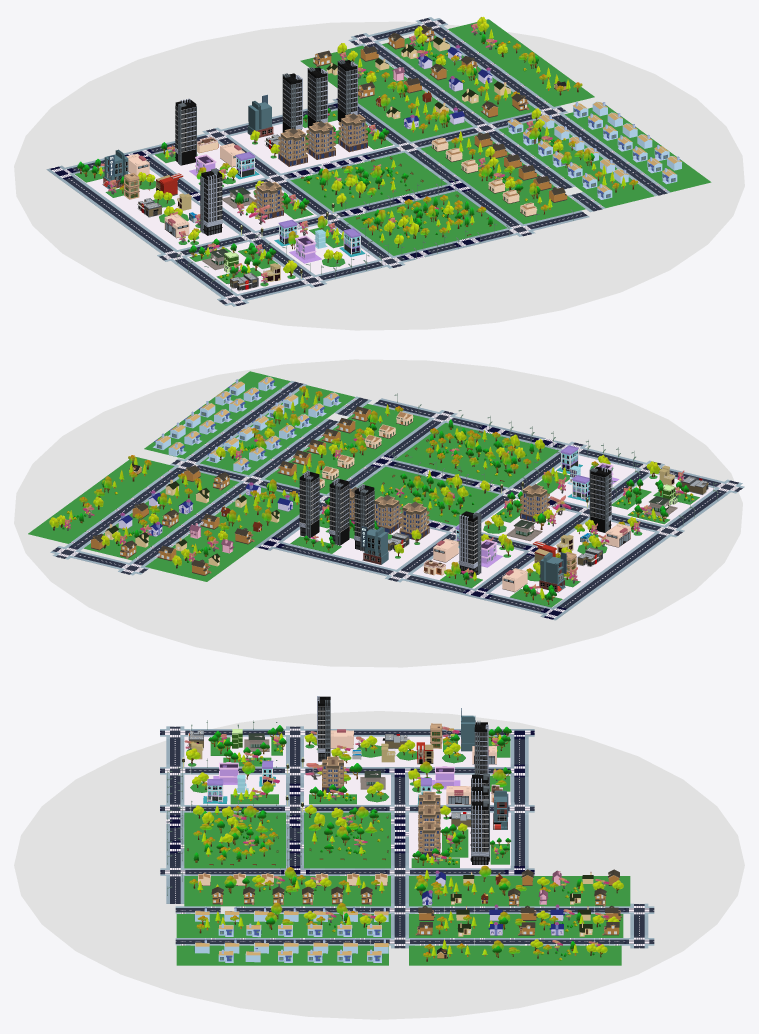
The model's file is low_poly_city.glb.
The picture shows the model from 3 angles, top to bottom: view 1: azimuth 30°, elevation 25°; view 2: azimuth 150°, elevation 25°; view 3: azimuth 270°, elevation 25°; orthographic projection.
Parts seen in each view (by area): view 1: Sphere.001_826, Plane.143_147, Plane.054_44, Plane.118_130, Plane.406_352, Plane.119_131, Plane.134_135, Plane.392_338, Plane.021_25, Plane.370_305, Plane.104_122, Modern Office.002_43 (+15 smaller); view 2: Sphere.001_826, Plane.143_147, Plane.118_130, Plane.406_352, Plane.119_131, Plane.054_44, Plane.134_135, Plane.392_338, Plane.370_305, Plane.021_25, Plane.104_122, Modern Office.001_42 (+13 smaller); view 3: Sphere.001_826, Plane.118_130, Plane.143_147, Plane.119_131, Plane.054_44, Plane.406_352, Plane.134_135, Plane.392_338, Plane.370_305, Plane.021_25, Plane.104_122, Plane.006_22 (+9 smaller).
Part boxes in pixels (x1=…): Sphere.001_826: x1=14, y1=21, x2=744, y2=330; Plane.143_147: x1=343, y1=191, x2=507, y2=255; Plane.054_44: x1=290, y1=152, x2=447, y2=211; Plane.118_130: x1=300, y1=45, x2=472, y2=141; Plane.406_352: x1=448, y1=19, x2=594, y2=106; Plane.119_131: x1=420, y1=134, x2=585, y2=224; Plane.134_135: x1=498, y1=120, x2=654, y2=207; Plane.392_338: x1=382, y1=35, x2=534, y2=122; Plane.021_25: x1=74, y1=169, x2=238, y2=249; Plane.370_305: x1=564, y1=105, x2=711, y2=192; Plane.104_122: x1=230, y1=120, x2=394, y2=173; Modern Office.002_43: x1=200, y1=168, x2=222, y2=235; Sphere.001_826: x1=14, y1=359, x2=742, y2=667; Plane.143_147: x1=395, y1=423, x2=558, y2=487; Plane.118_130: x1=145, y1=487, x2=299, y2=581; Plane.406_352: x1=28, y1=456, x2=174, y2=543; Plane.119_131: x1=265, y1=404, x2=428, y2=494; Plane.054_44: x1=357, y1=466, x2=498, y2=525; Plane.134_135: x1=200, y1=385, x2=355, y2=475; Plane.392_338: x1=84, y1=472, x2=239, y2=560; Plane.370_305: x1=144, y1=371, x2=290, y2=458; Plane.021_25: x1=490, y1=521, x2=654, y2=607; Plane.104_122: x1=283, y1=514, x2=446, y2=569; Modern Office.001_42: x1=458, y1=511, x2=481, y2=576; Sphere.001_826: x1=14, y1=711, x2=744, y2=1019; Plane.118_130: x1=409, y1=876, x2=630, y2=906; Plane.143_147: x1=184, y1=812, x2=285, y2=869; Plane.119_131: x1=184, y1=876, x2=390, y2=906; Plane.054_44: x1=304, y1=812, x2=390, y2=868; Plane.406_352: x1=409, y1=945, x2=621, y2=965; Plane.134_135: x1=176, y1=914, x2=390, y2=937; Plane.392_338: x1=409, y1=914, x2=623, y2=937; Plane.370_305: x1=176, y1=945, x2=388, y2=965; Plane.021_25: x1=304, y1=736, x2=510, y2=766; Plane.104_122: x1=409, y1=812, x2=510, y2=868; Plane.006_22: x1=184, y1=774, x2=285, y2=804.
Size of the model in its own units: 488 by 52.64 by 488.
Materials: 37 (6 with a texture image).
